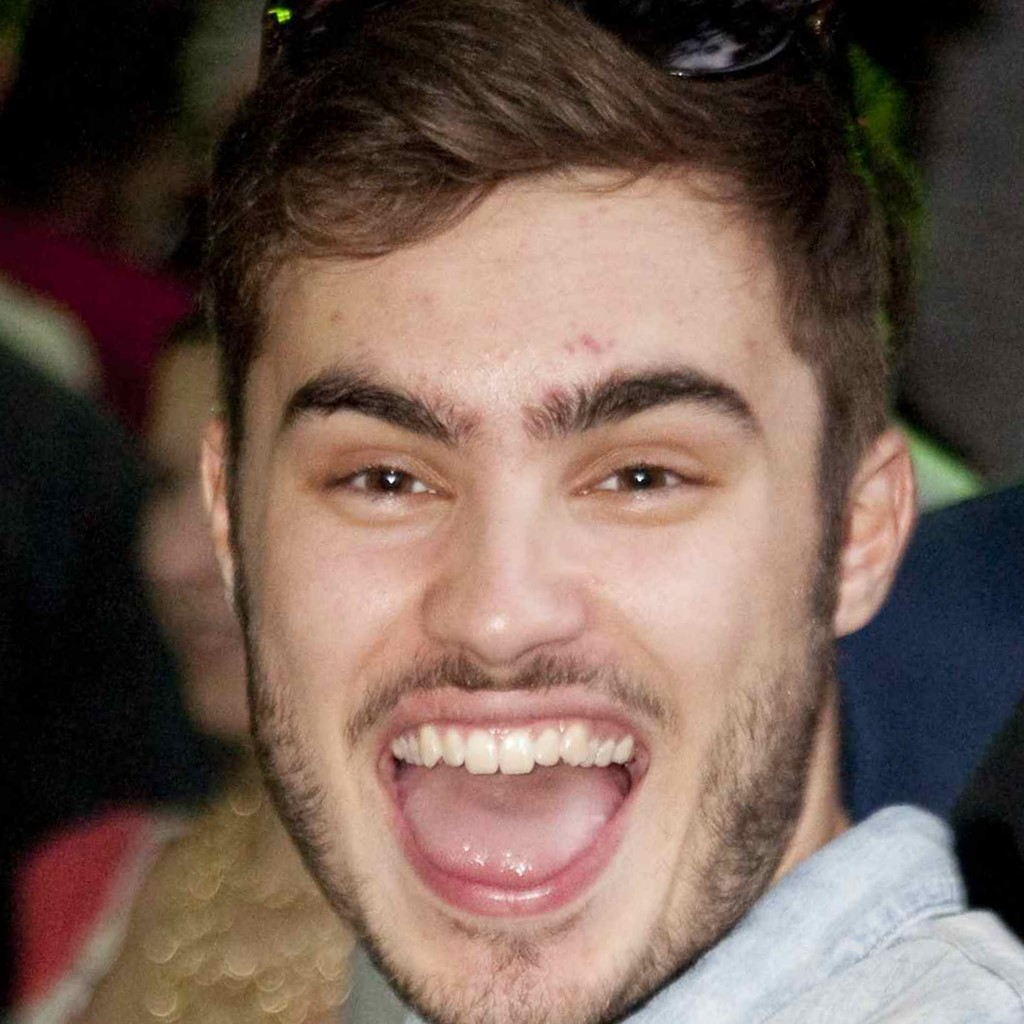sin_mascara: (210, 131, 875, 1007)
